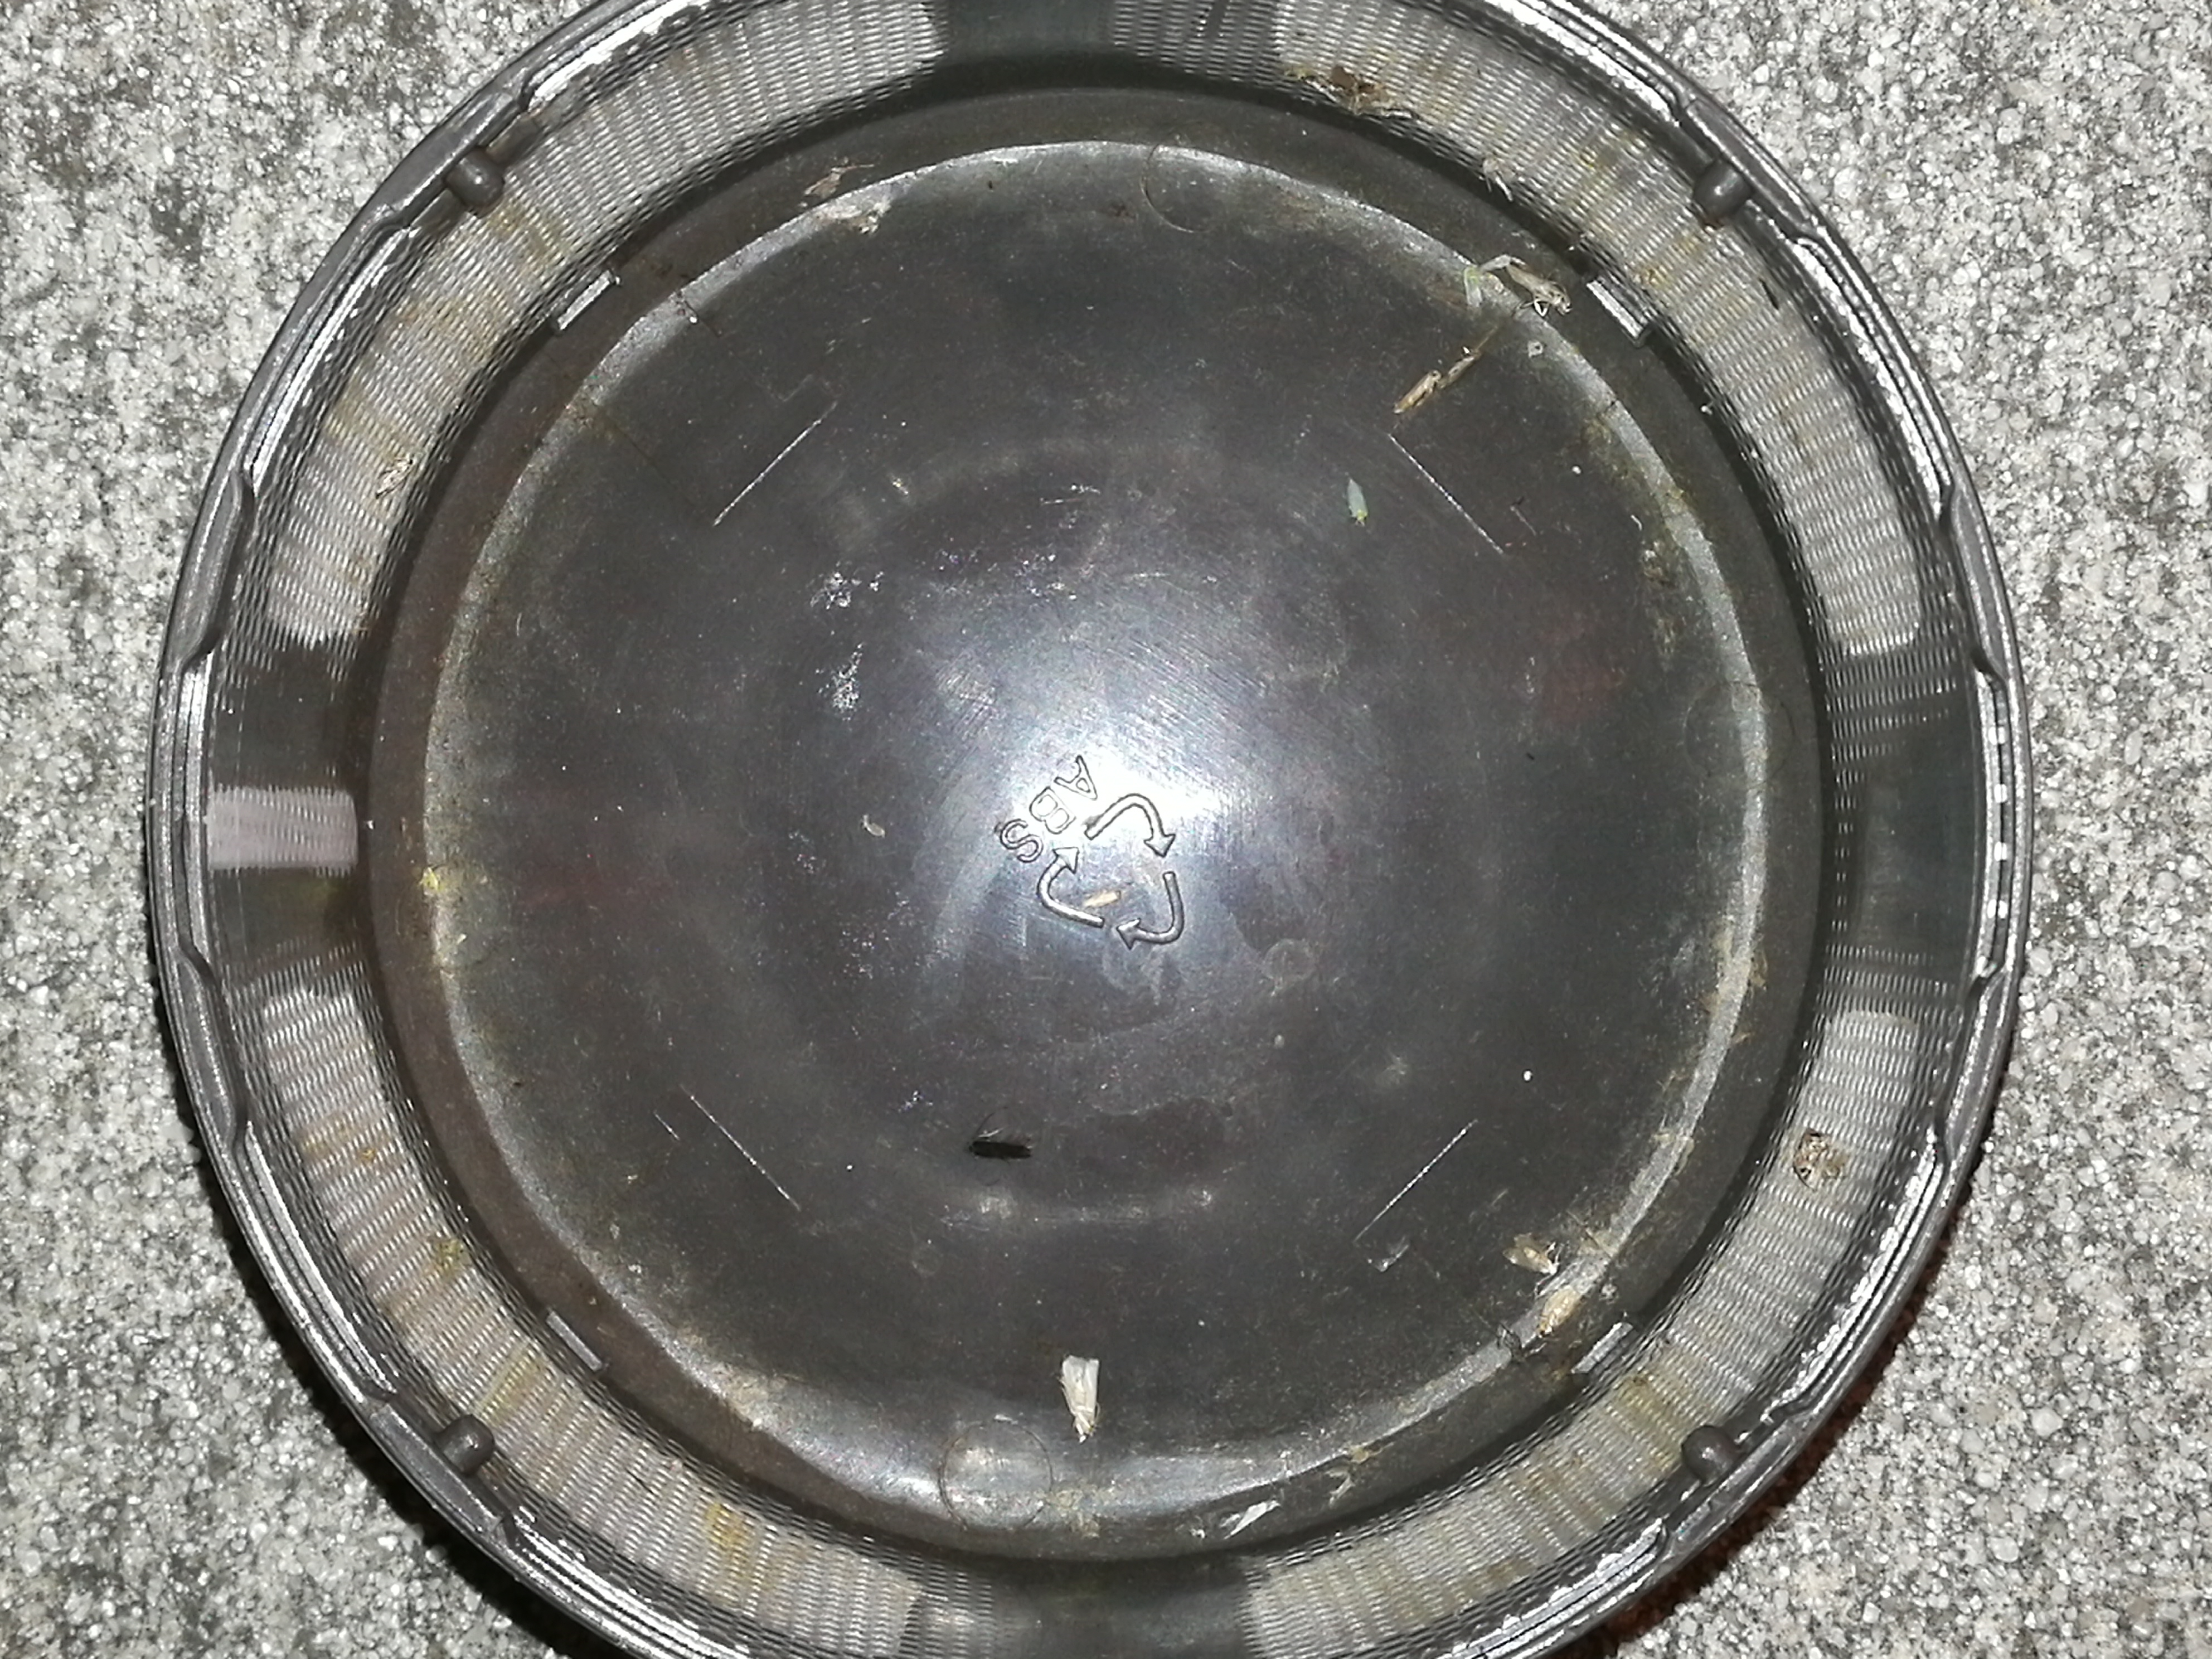mosquito: (1505, 267, 1571, 312), (1536, 1283, 1576, 1337), (1395, 369, 1439, 411), (967, 1140, 1026, 1157)
moth: (1062, 1356, 1099, 1441), (1501, 1236, 1552, 1274)
